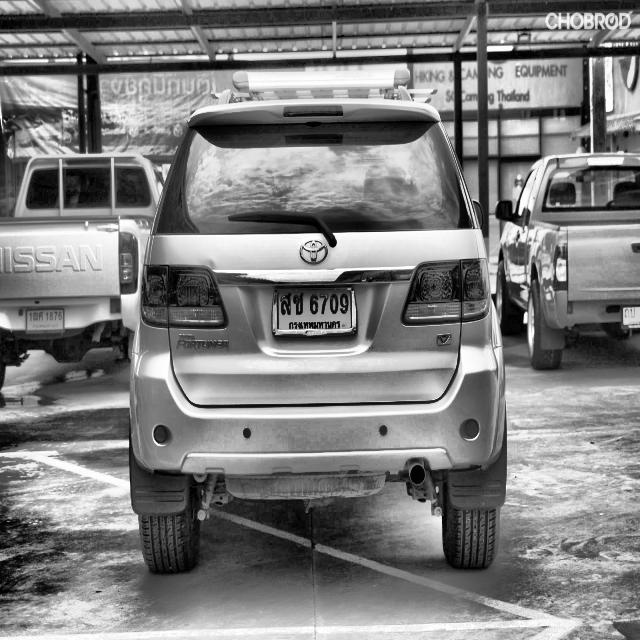license-plate: (272, 286, 358, 336), (23, 306, 67, 332), (622, 303, 640, 331)
